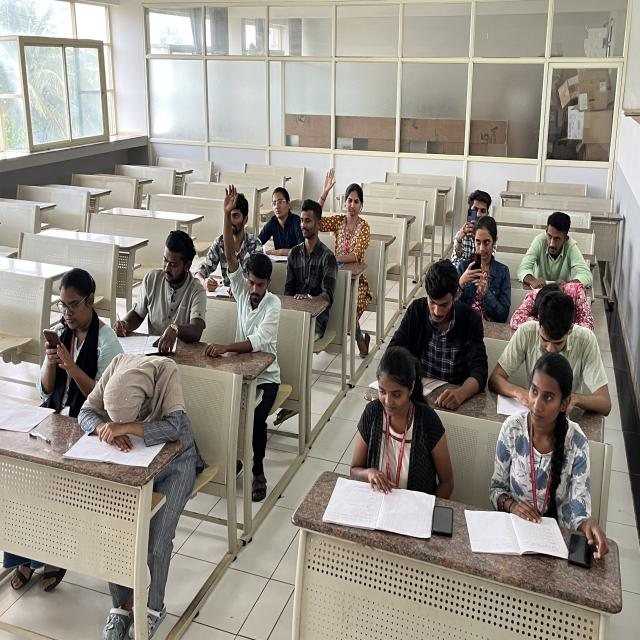Hand Rising: (212, 182, 285, 355), (311, 163, 375, 254)
Reading: (345, 350, 433, 532)
Sleeping: (76, 340, 194, 470), (508, 264, 608, 358)
Using Phone: (35, 261, 117, 411), (465, 215, 510, 325), (454, 183, 496, 257)
Writing: (107, 222, 203, 350)
